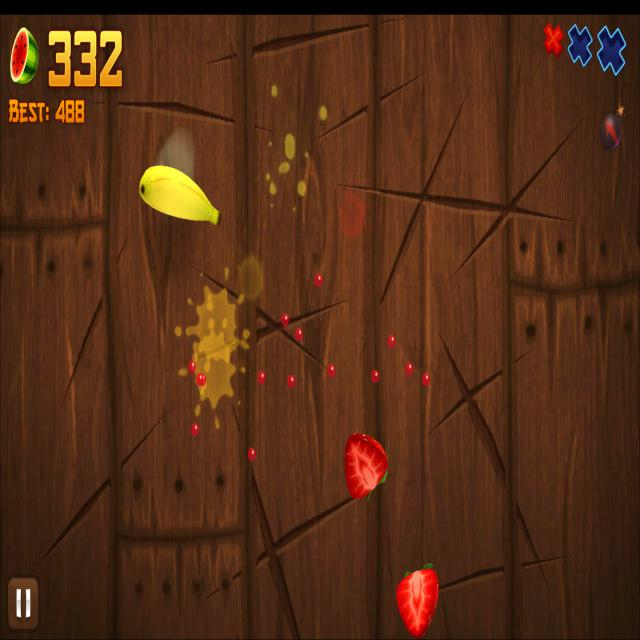fruit: (139, 166, 221, 226)
